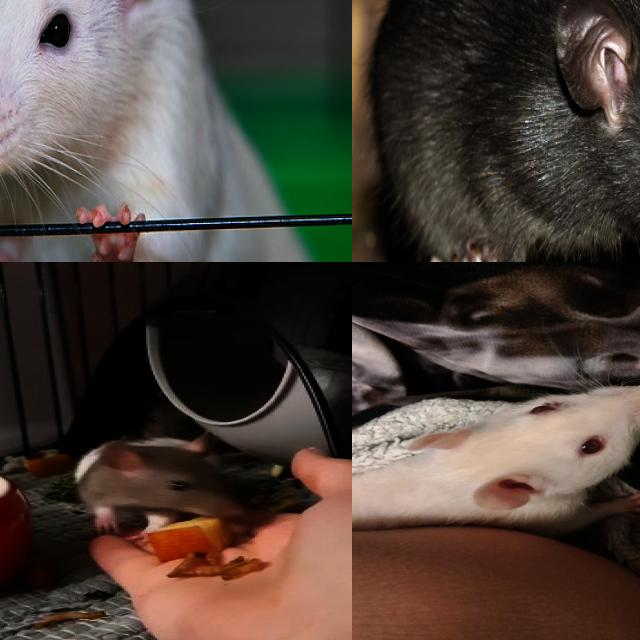rat: (0, 0, 346, 262), (352, 0, 640, 262), (352, 384, 640, 555), (76, 433, 259, 539)
